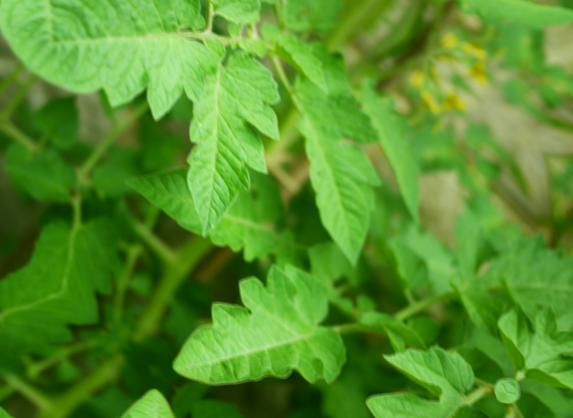Tomato leaf: (101, 19, 337, 260), (224, 60, 443, 274), (154, 220, 386, 418), (18, 0, 243, 166), (268, 288, 522, 418), (307, 79, 468, 234), (468, 198, 573, 349), (127, 0, 309, 44)
